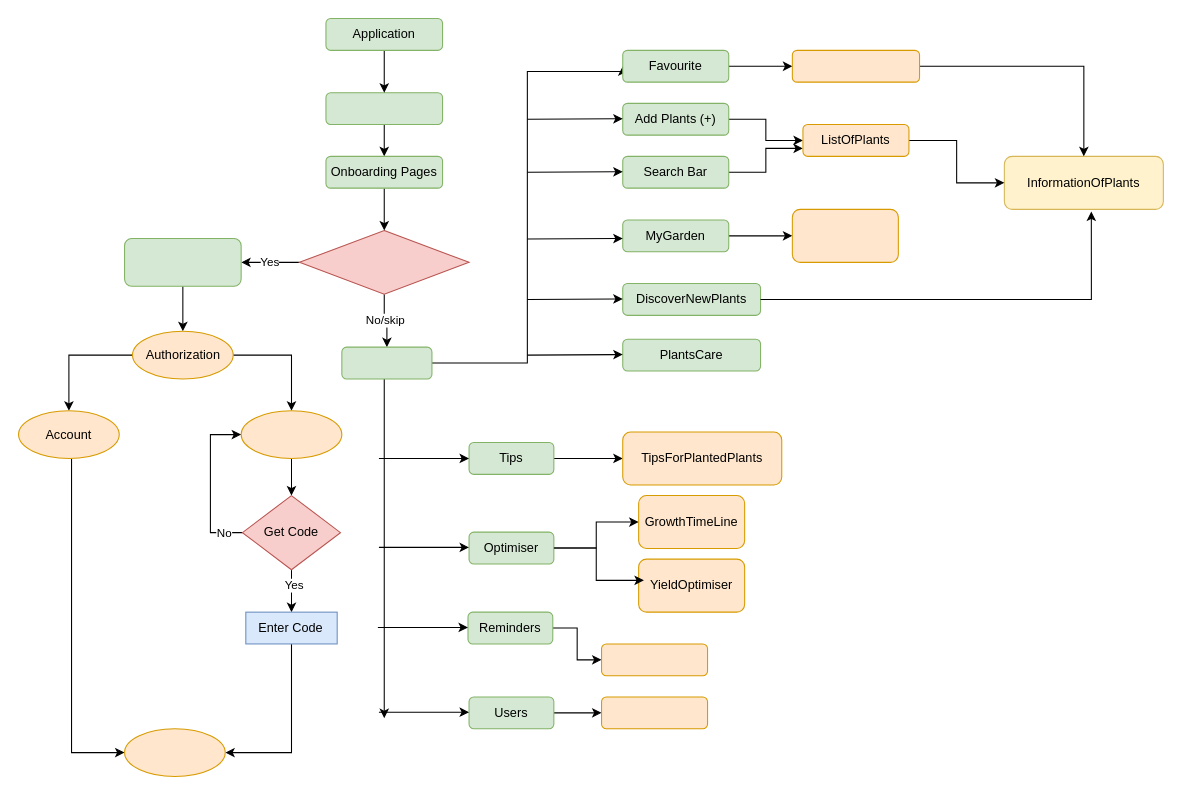
The diagram is 1182 pixels wide and 795 high, and some of its shapes have lost their labels. The centre of each missing label's shape, as x and y in pixels:
Create account: the point at 182,261
Enter e-mail: the point at 291,434
Home: the point at 386,362
MyAccount: the point at 654,712
New User: the point at 383,261
Plants Status: the point at 844,235
Registered: the point at 174,752
Start: the point at 384,108
Water: the point at 654,659
WishListed Plants: the point at 855,65
